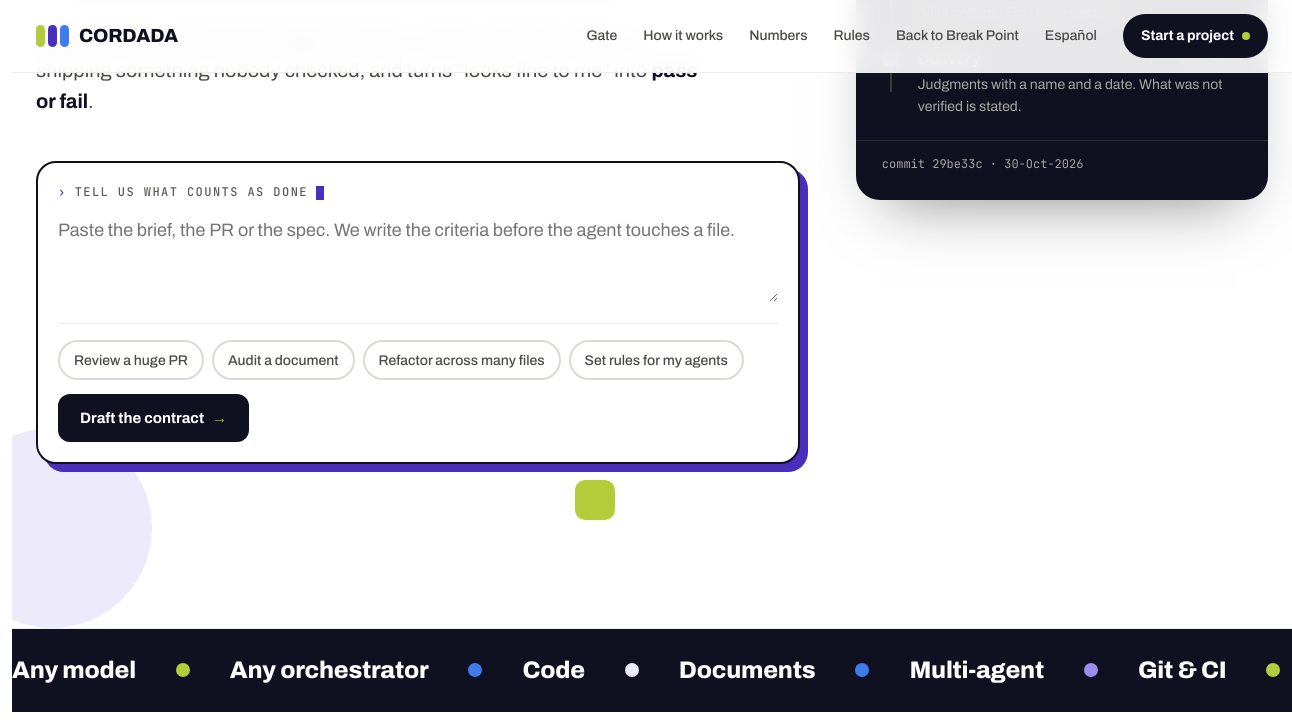
it: render de cada idioma › en inglés los chips cargan su texto en inglés
The image size is (1292, 720).
(page scrolled)
Click the button "Review a huge PR" at (131, 360), box [58,340,204,380]
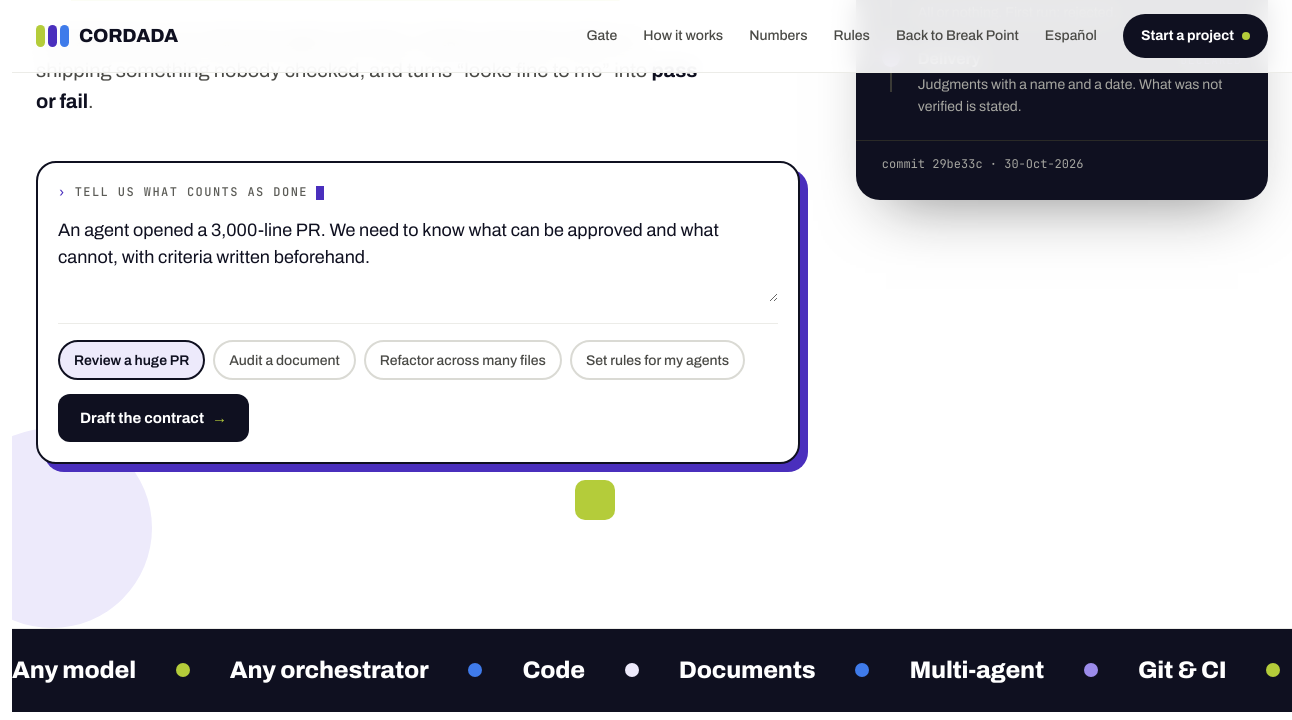
Expected: the text box holds "An agent opened a 3,000-line PR. We need to know what can be approved and what cannot, with criteria written beforehand.", [58,213,778,302]
